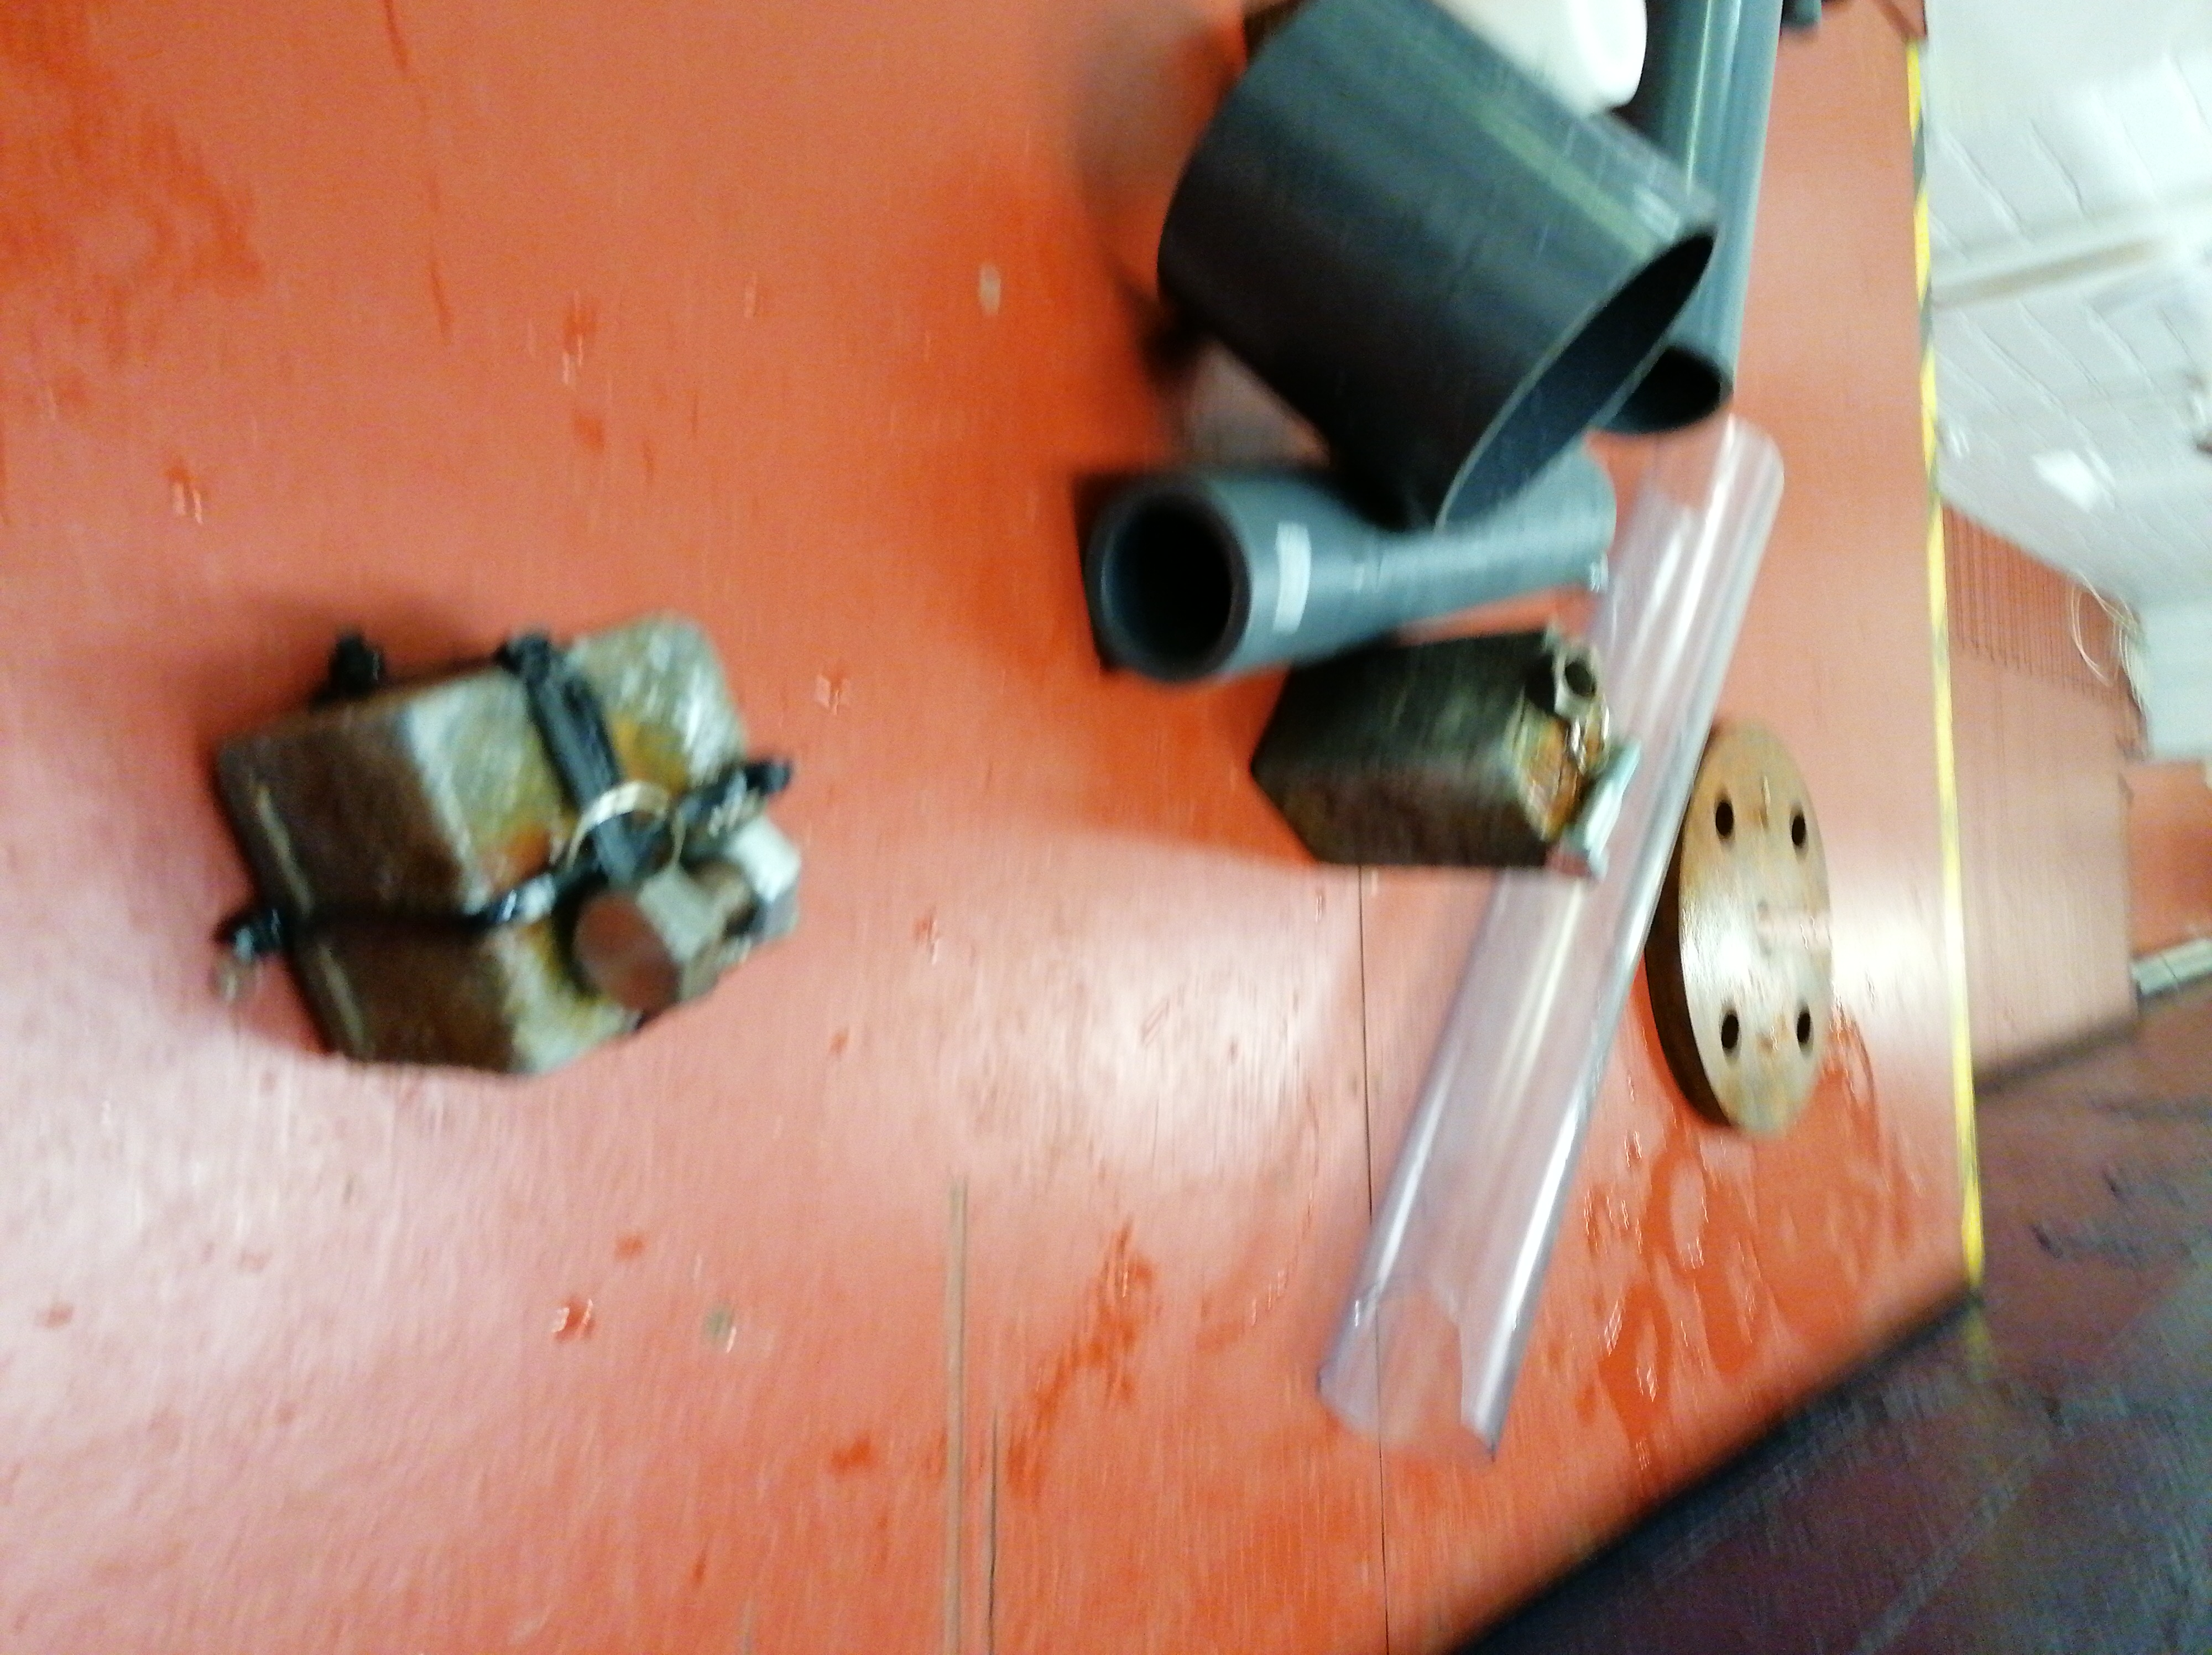bolt: (580, 859, 752, 1019), (1552, 734, 1644, 883)
flange: (1644, 725, 1845, 1135)
led_block: (207, 614, 808, 1076), (1246, 636, 1619, 873)
nut: (692, 808, 806, 947), (1531, 645, 1607, 716)
pipe: (1319, 417, 1654, 1467), (1156, 0, 1654, 530), (1084, 457, 1614, 685), (1613, 0, 1786, 426), (1465, 0, 1652, 106)
